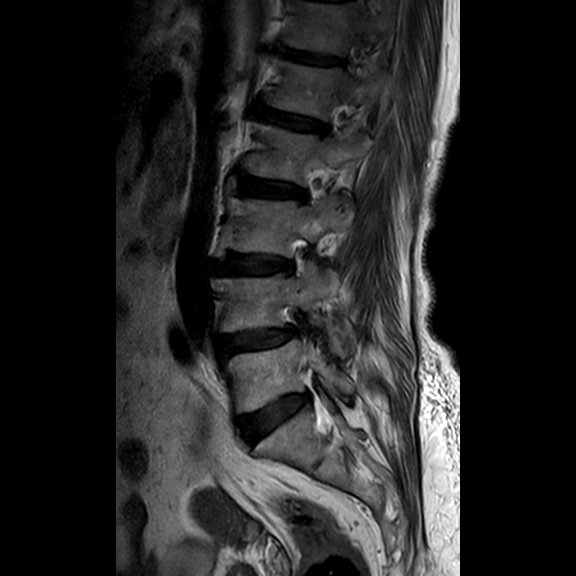RFS0: (274, 229, 318, 287)
